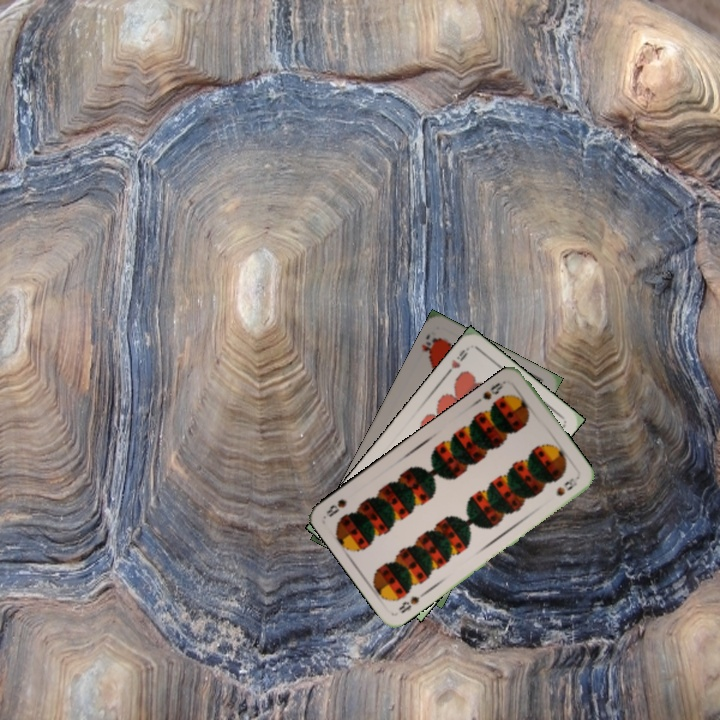H9: (442, 344, 472, 378)
HO: (417, 330, 442, 360)
S8: (394, 587, 429, 616), (478, 376, 509, 403)
